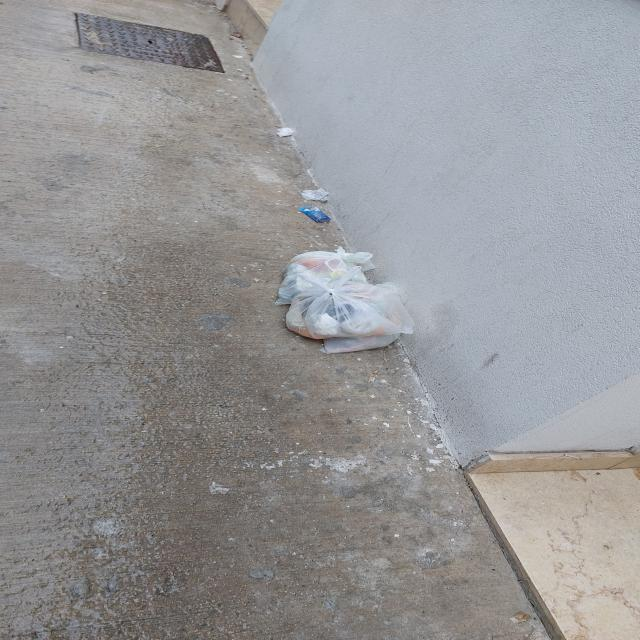Organic Waste -White Bag-: (281, 286, 415, 349), (280, 247, 373, 294)
